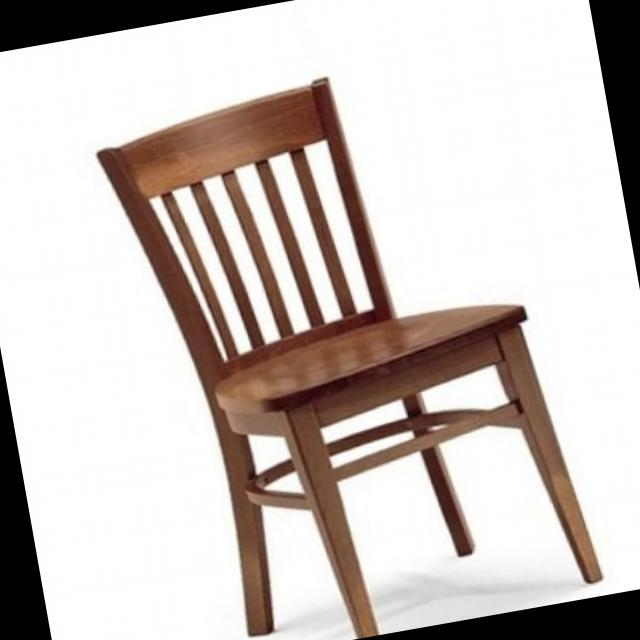Chair: (86, 36, 616, 640)
